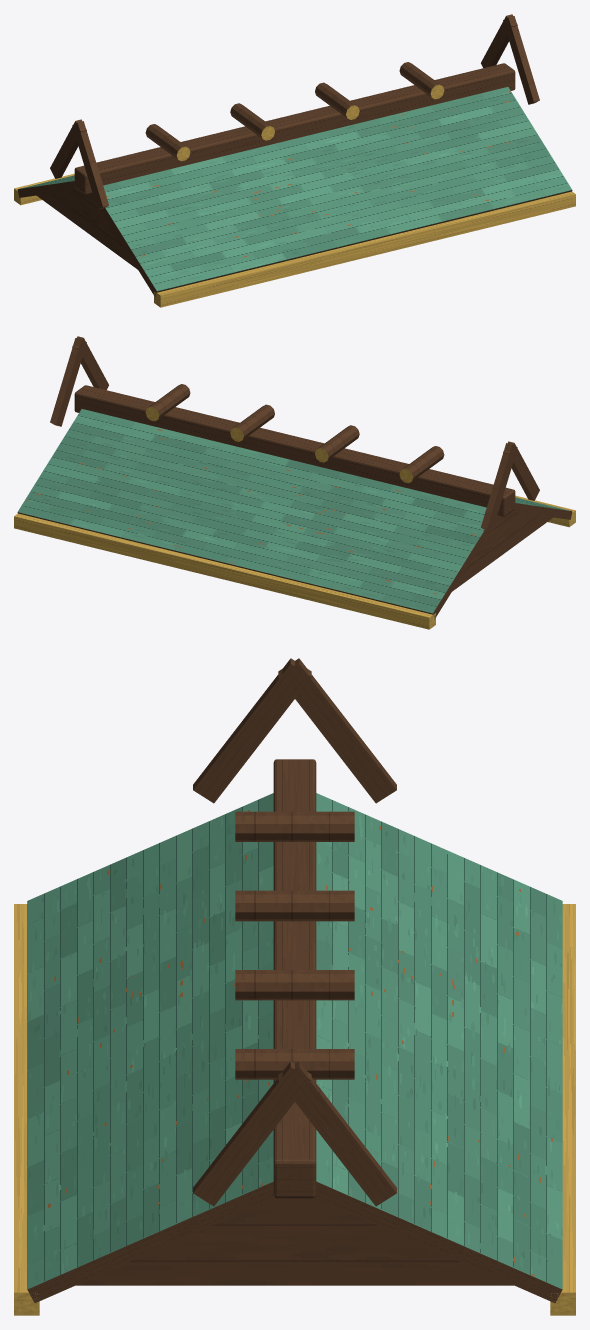
The model's file is shrine_roof.glb.
3 views of the same model, one above another, from view 1: azimuth 30°, elevation 25°; view 2: azimuth 150°, elevation 25°; view 3: azimuth 270°, elevation 25° (orthographic). The views are drawn at different scales.
Visible parts, largest first — view 1: box; view 2: box; view 3: box.
Boxes of the visible parts, x1,y1,x2,y2 form: box: (14,14,575,307); box: (14,336,575,629); box: (14,658,575,1315).
Size of the model in its own units: 1.14 by 0.3355 by 0.66.
Materials: 3 (3 with a texture image).
